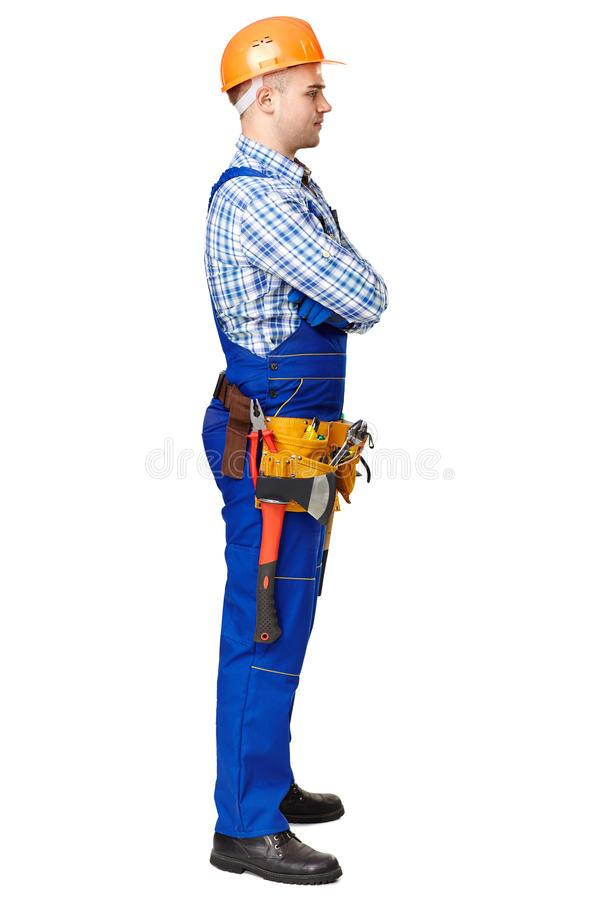helmet: (217, 17, 345, 91)
